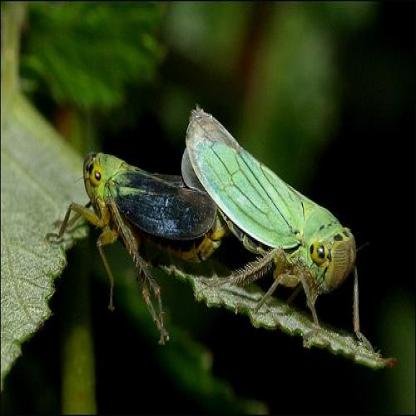Green-Leafhopper: (176, 106, 375, 350), (42, 146, 230, 347)
